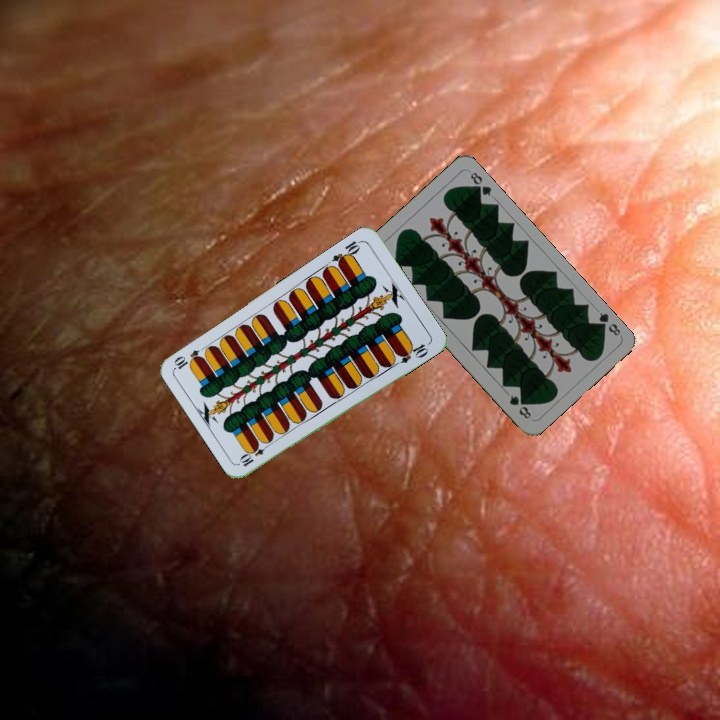E10: (328, 236, 364, 269), (236, 438, 273, 469)
G8: (592, 308, 624, 339)
